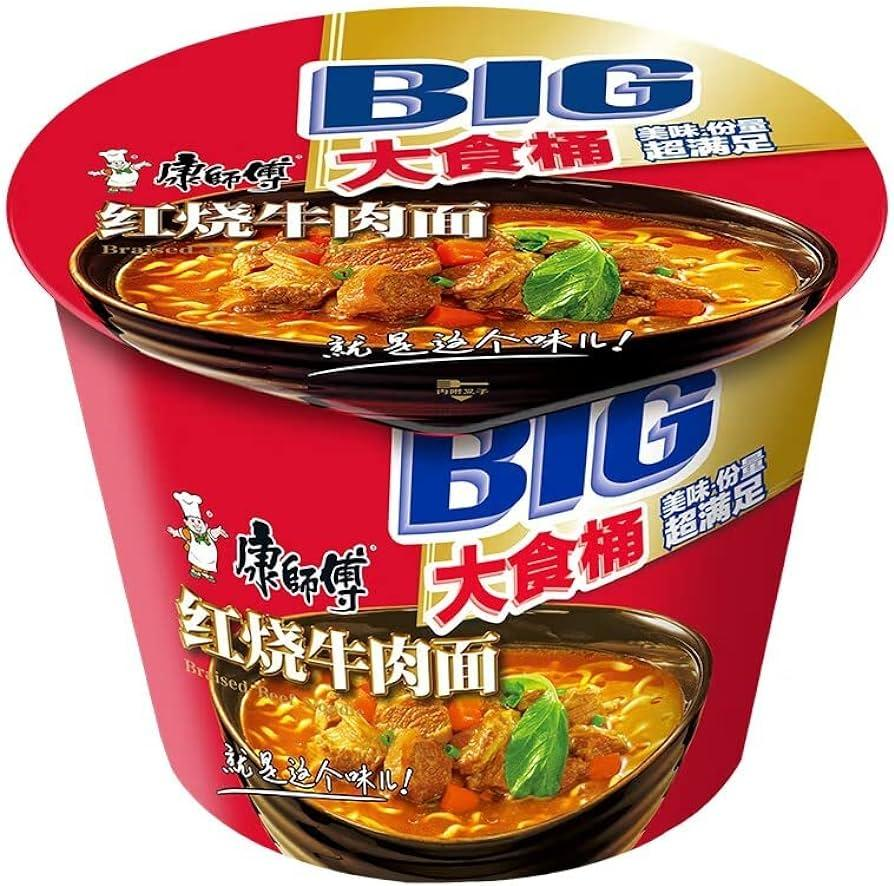instant_noodle: (10, 6, 884, 886)
